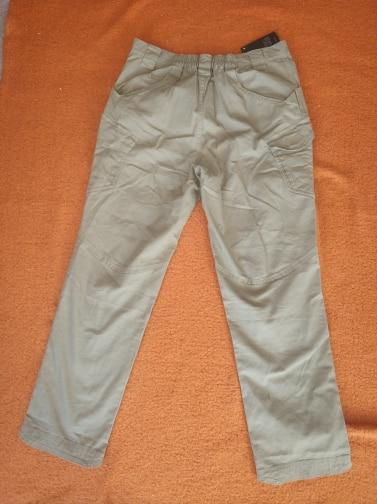pants: (23, 35, 356, 484)
